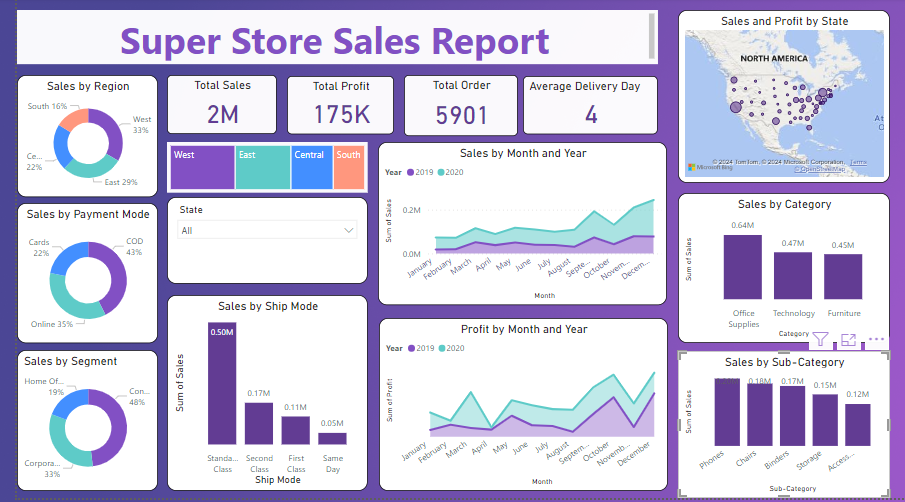

What the dashboard file says about the page in this screenshot:
{"tool":"powerbi","page":{"name":"Page 2","canvas":[1280,720],"ordinal":1},"visuals":[{"type":"columnChart","title":"Sales by Category","fields":{"Category":["Sheet1.Category"],"Y":["Sum(Sheet1.Sales)"]},"box":[951.8,280.8,305.3,216],"z":0},{"type":"columnChart","title":"Sales by Sub-Category","fields":{"Y":["Sum(Sheet1.Sales)"],"Category":["Sheet1.Sub-Category"]},"box":[951.8,508.3,305.3,211.7],"z":1000},{"type":"stackedAreaChart","title":"Sales by Month and Year","fields":{"Y":["Sum(Sheet1.Sales)"],"Category":["Sheet1.Order Date.Variation.Date Hierarchy.Month"],"Series":["Sheet1.Order Date.Variation.Date Hierarchy.Year"]},"box":[519.8,207.4,416.2,234.7],"z":2000},{"type":"stackedAreaChart","title":" Profit by Month and Year","fields":{"Category":["Sheet1.Order Date.Variation.Date Hierarchy.Month"],"Series":["Sheet1.Order Date.Variation.Date Hierarchy.Year"],"Y":["Sum(Sheet1.Profit)"]},"box":[521.3,460.8,416.2,249.1],"z":3000},{"type":"map","title":" Sales and Profit by State","fields":{"Category":["Sheet1.State"],"Size":["Sum(Sheet1.Sales)"]},"box":[951.8,17.3,305.3,249.1],"z":4000},{"type":"donutChart","title":"Sales by Segment","fields":{"Category":["Sheet1.Segment"],"Y":["Sum(Sheet1.Sales)"]},"box":[0,506.9,203,203],"z":5000},{"type":"donutChart","title":" Sales by Region","fields":{"Y":["Sum(Sheet1.Sales)"],"Category":["Sheet1.Region"]},"box":[0,110.9,203,175.7],"z":6000},{"type":"treemap","fields":{"Group":["Sheet1.Region"],"Values":["Sum(Sheet1.Sales)"]},"box":[216,207.4,289.4,73.4],"z":7000},{"type":"card","title":"Total Profit","fields":{"Values":["Sum(Sheet1.Profit)"]},"box":[388.8,112.3,154.1,83.5],"z":8000},{"type":"card","title":"Total Order","fields":{"Values":["CountNonNull(Sheet1.Order ID)"]},"box":[557.3,110.9,164.2,87.8],"z":9000},{"type":"card","title":"Total Sales","fields":{"Values":["Sum(Sheet1.Sales)"]},"box":[216,110.9,158.4,85],"z":10000},{"type":"columnChart","title":" Sales by Ship Mode","fields":{"Category":["Sheet1.Ship Mode"],"Y":["Sum(Sheet1.Sales)"]},"box":[216,427.7,289.4,282.2],"z":11000},{"type":"card","title":"Average Delivery Day","fields":{"Values":["Avg(Sheet1.AvrgDeliveryday)"]},"box":[728.6,112.3,194.4,83.5],"z":12000},{"type":"textbox","box":[0,17.3,923,77.8],"z":13000},{"type":"donutChart","title":"Sales by Payment Mode","fields":{"Y":["Sum(Sheet1.Sales)"],"Category":["Sheet1.Payment Mode"]},"box":[0,295.2,203,201.6],"z":14000},{"type":"slicer","fields":{"Values":["Sheet1.State"]},"box":[216,286.6,289.4,125.3],"z":15000}]}

Visuals, with their boxes in screenshot pixels (x1, y1, x2, y2), scaled from the page's 1280x720 canvas onto the 905x502 screenshot:
"Sales by Category" columnChart: {"left": 673, "top": 196, "right": 889, "bottom": 346}
"Sales by Sub-Category" columnChart: {"left": 673, "top": 354, "right": 889, "bottom": 501}
"Sales by Month and Year" stackedAreaChart: {"left": 368, "top": 145, "right": 662, "bottom": 308}
" Profit by Month and Year" stackedAreaChart: {"left": 369, "top": 321, "right": 663, "bottom": 495}
" Sales and Profit by State" map: {"left": 673, "top": 12, "right": 889, "bottom": 186}
"Sales by Segment" donutChart: {"left": 0, "top": 353, "right": 144, "bottom": 495}
" Sales by Region" donutChart: {"left": 0, "top": 77, "right": 144, "bottom": 200}
treemap - Sheet1.Region x Sum(Sheet1.Sales): {"left": 153, "top": 145, "right": 357, "bottom": 196}
"Total Profit" card: {"left": 275, "top": 78, "right": 384, "bottom": 137}
"Total Order" card: {"left": 394, "top": 77, "right": 510, "bottom": 139}
"Total Sales" card: {"left": 153, "top": 77, "right": 265, "bottom": 137}
" Sales by Ship Mode" columnChart: {"left": 153, "top": 298, "right": 357, "bottom": 495}
"Average Delivery Day" card: {"left": 515, "top": 78, "right": 653, "bottom": 137}
textbox: {"left": 0, "top": 12, "right": 653, "bottom": 66}
"Sales by Payment Mode" donutChart: {"left": 0, "top": 206, "right": 144, "bottom": 346}
slicer - Sheet1.State: {"left": 153, "top": 200, "right": 357, "bottom": 287}
